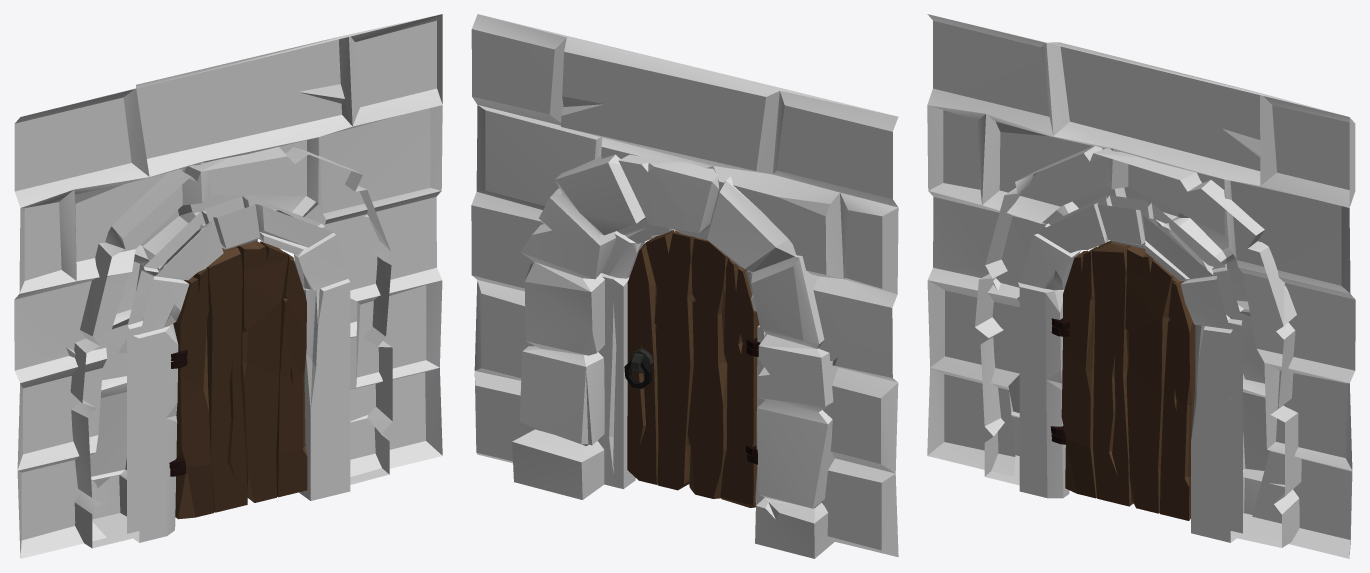
File: NGF_Env_Stone_doorway_05.fbx
3 renders of one model, left to right at view 1: azimuth 30°, elevation 25°; view 2: azimuth 150°, elevation 25°; view 3: azimuth 330°, elevation 25°, orthographic.
Parts seen in each view (by area): view 1: NGF_Env_Stone_doorway_05, NGF_Env_Door_arc_04, NGF_Env_Door_07; view 2: NGF_Env_Stone_doorway_05, NGF_Env_Door_07, NGF_Env_Door_arc_04; view 3: NGF_Env_Stone_doorway_05, NGF_Env_Door_07, NGF_Env_Door_arc_04.
Boxes of the visible parts, box(x1,y1,x2,y2) form: NGF_Env_Stone_doorway_05: box(14, 14, 442, 558); NGF_Env_Door_arc_04: box(127, 196, 350, 542); NGF_Env_Door_07: box(173, 241, 307, 519); NGF_Env_Stone_doorway_05: box(471, 14, 898, 558); NGF_Env_Door_07: box(627, 230, 759, 507); NGF_Env_Door_arc_04: box(597, 218, 766, 505); NGF_Env_Stone_doorway_05: box(927, 14, 1355, 558); NGF_Env_Door_07: box(1061, 241, 1195, 520); NGF_Env_Door_arc_04: box(1018, 195, 1242, 542).
Size of the model in its own units: 4 by 4 by 0.6399.
Materials: 1 (1 with a texture image).
